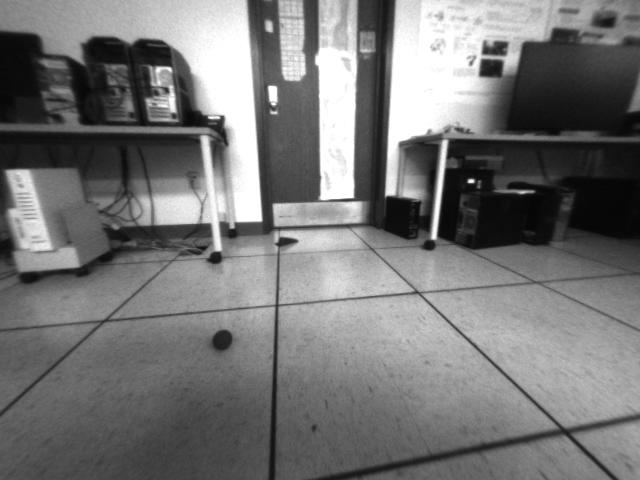dogtoy: (204, 324, 238, 356)
